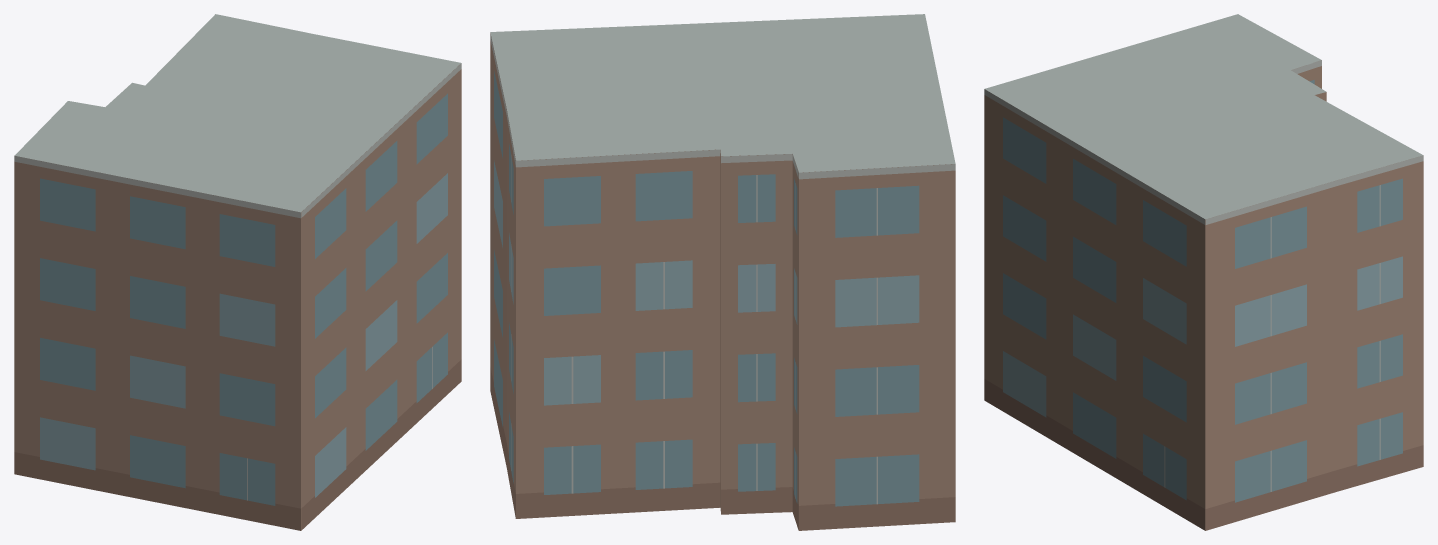
Rendered from survey-upis-32733442.glb.
3 renders of one model, left to right at view 1: azimuth 30°, elevation 25°; view 2: azimuth 150°, elevation 25°; view 3: azimuth 270°, elevation 25°, orthographic. The views are drawn at different scales.
Visible parts, largest first — view 1: survey-upis-32733442.tmp; view 2: survey-upis-32733442.tmp; view 3: survey-upis-32733442.tmp.
Part boxes in pixels (box(x1,y1,x2,y2)): survey-upis-32733442.tmp: box(14, 14, 461, 530); survey-upis-32733442.tmp: box(490, 14, 955, 530); survey-upis-32733442.tmp: box(984, 14, 1423, 530).
Size of the model in its own units: 18.39 by 13 by 16.62.
